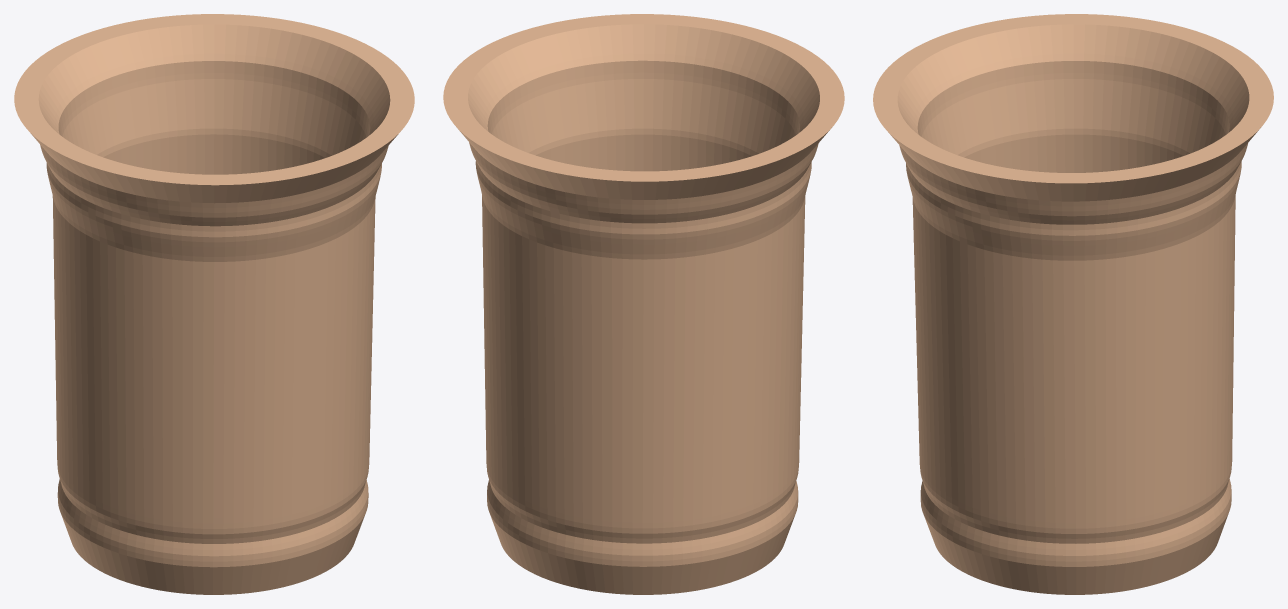
Rendered from Pot_03_Tall_Utensil_Crock.glb.
3 renders of one model, left to right at view 1: azimuth 30°, elevation 25°; view 2: azimuth 150°, elevation 25°; view 3: azimuth 270°, elevation 25°, orthographic.
Visible parts, largest first — view 1: Pot_03_Tall_Utensil_Crock; view 2: Pot_03_Tall_Utensil_Crock; view 3: Pot_03_Tall_Utensil_Crock.
Boxes of the visible parts, x1,y1,x2,y2 form: Pot_03_Tall_Utensil_Crock: [14, 14, 414, 594]; Pot_03_Tall_Utensil_Crock: [443, 14, 844, 594]; Pot_03_Tall_Utensil_Crock: [873, 14, 1273, 594].
Bounding box in the file's own units: 0.196 × 0.236 × 0.196.
